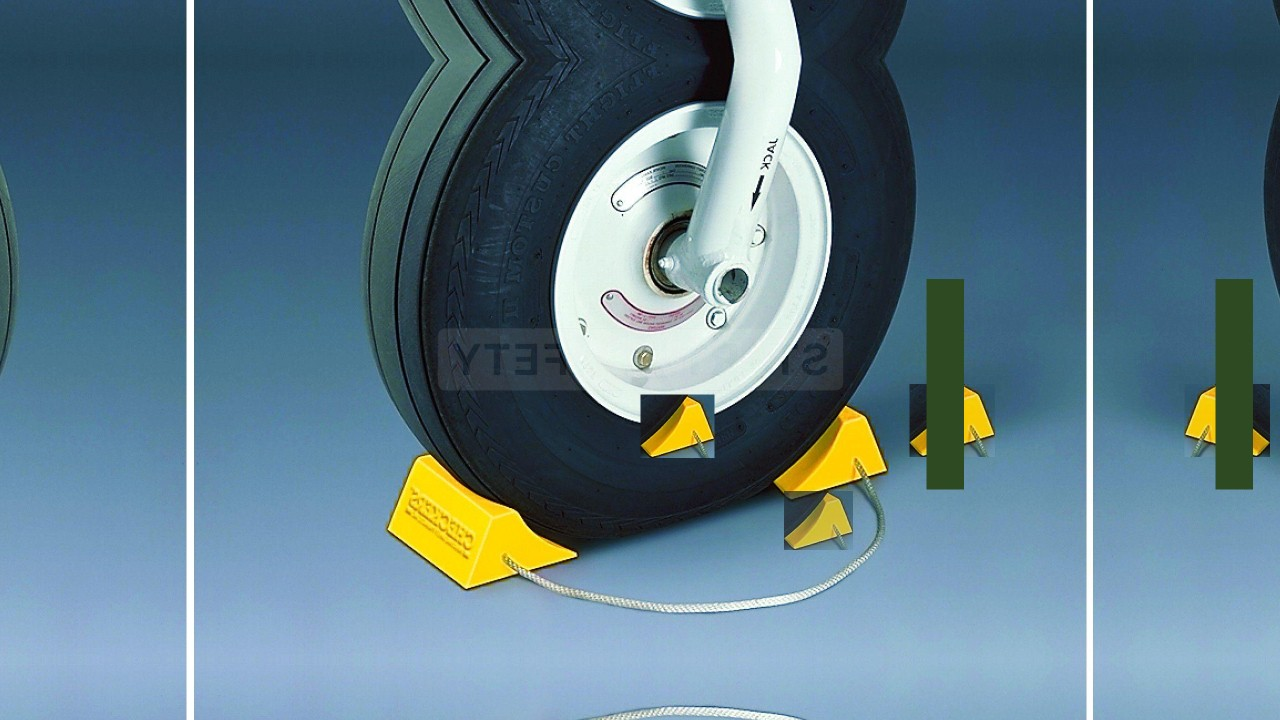chock: (383, 453, 579, 592), (773, 403, 888, 501), (909, 384, 995, 457), (1185, 384, 1271, 457), (640, 395, 715, 458), (784, 491, 853, 550)
wheel: (358, 61, 922, 542), (358, 0, 922, 59)
